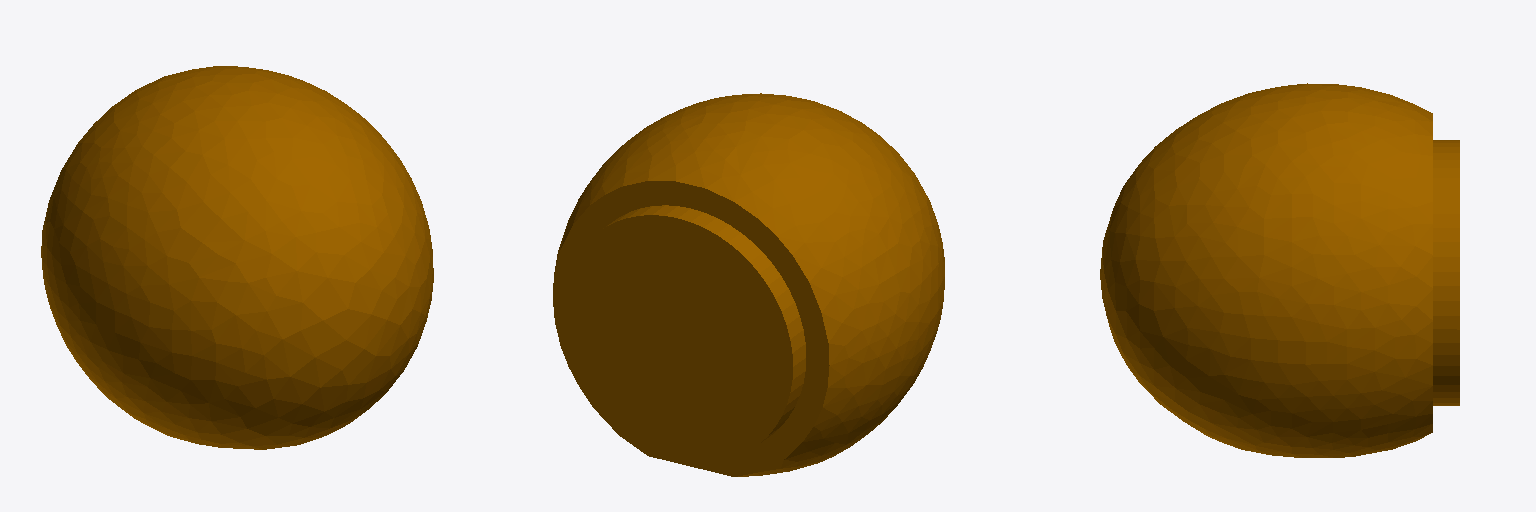
3 views of the same model, side by side, from view 1: azimuth 30°, elevation 25°; view 2: azimuth 150°, elevation 25°; view 3: azimuth 270°, elevation 25° (orthographic).
Visible parts, largest first — view 1: /ambf/env/link6_link6.001; view 2: /ambf/env/link6_link6.001; view 3: /ambf/env/link6_link6.001.
Part boxes in pixels (x1,y1,x2,y2): /ambf/env/link6_link6.001: (41, 66, 433, 449); /ambf/env/link6_link6.001: (553, 93, 944, 476); /ambf/env/link6_link6.001: (1100, 83, 1459, 457).
Size of the model in its own units: 0.1422 by 0.1282 by 0.1352.